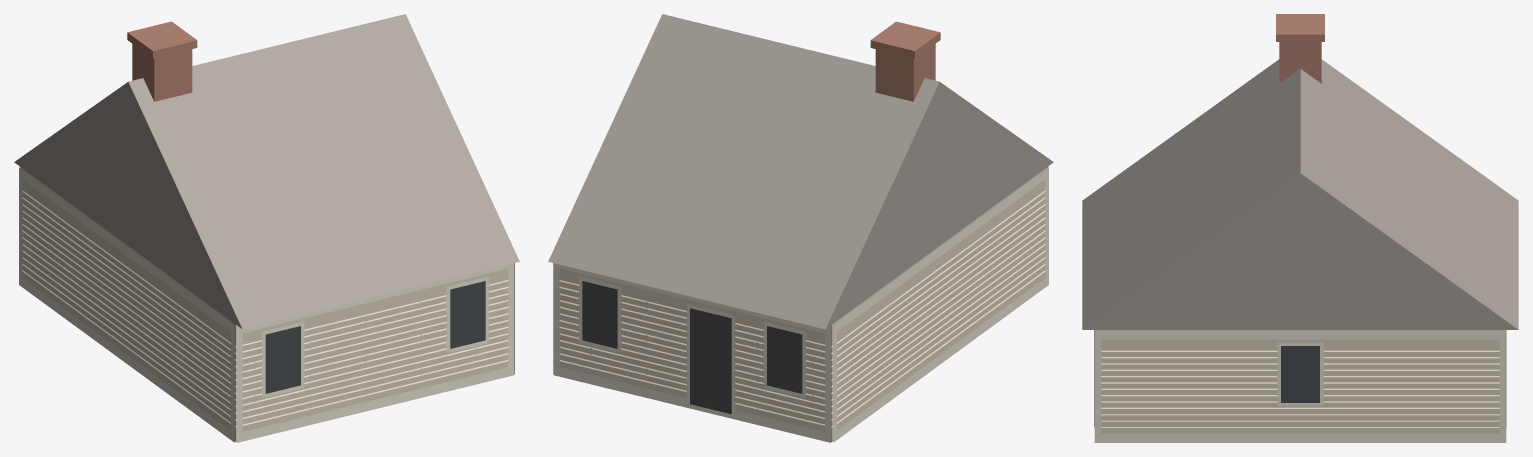
Rendered from recon_1835_north_d4_043__inferred_1835.glb.
3 views of the same model, side by side, from view 1: azimuth 30°, elevation 25°; view 2: azimuth 150°, elevation 25°; view 3: azimuth 270°, elevation 25° (orthographic). The views are drawn at different scales.
Parts seen in each view (by area): view 1: recon_1835_north_d4_043__inferred_1835; view 2: recon_1835_north_d4_043__inferred_1835; view 3: recon_1835_north_d4_043__inferred_1835.
Boxes of the visible parts, x1,y1,x2,y2 form: recon_1835_north_d4_043__inferred_1835: (14,14,519,442); recon_1835_north_d4_043__inferred_1835: (548,14,1053,442); recon_1835_north_d4_043__inferred_1835: (1082,14,1518,442).
Size of the model in its own units: 6.19 by 6.71 by 8.72.
